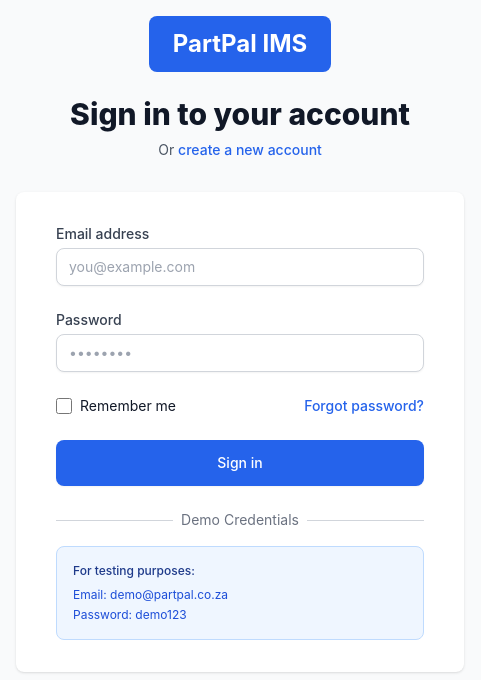
Test: Login Page › shows validation error for invalid email
This screenshot has width=481, height=680.
Type "invalid-email" into the field labelled "Email address" at (240, 267), box [56,248,424,286]
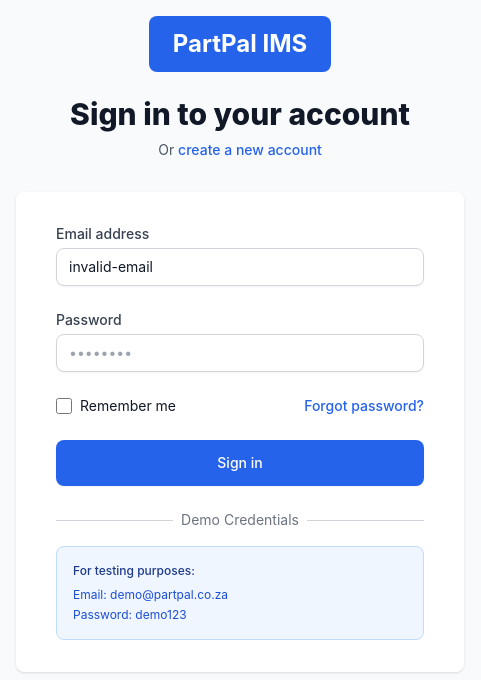
Type "password123" into the password field labelled "Password" at (240, 353), box [56,334,424,372]
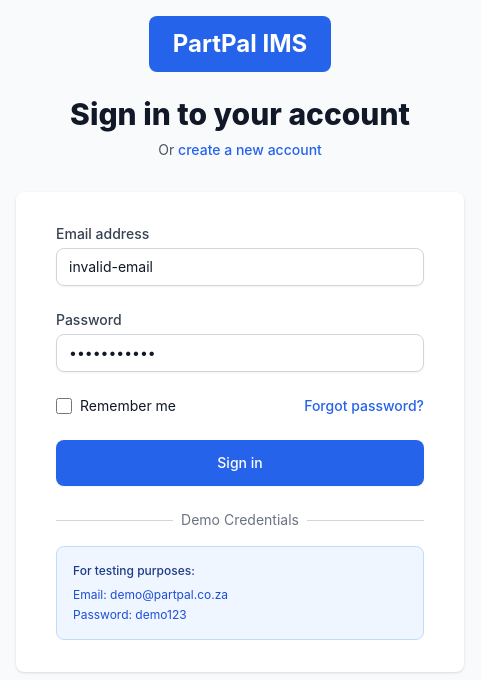
Submit the form "Email address Password Remember me Forgot password? Sign in", box [56,224,424,486]
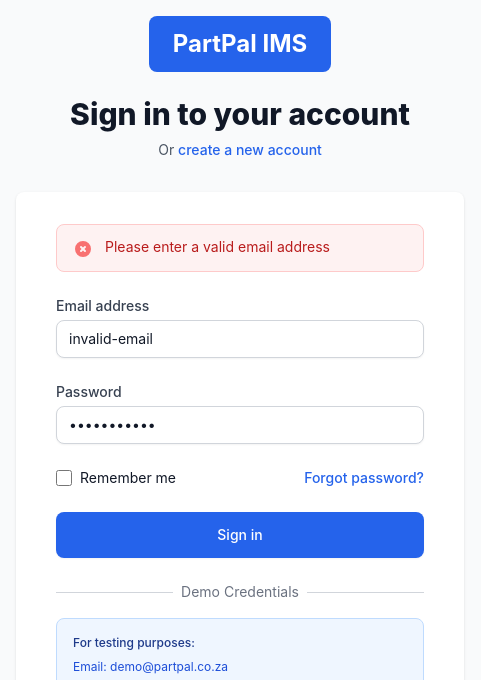
Result: the text "Please enter a valid email address" is shown at [105,237,330,257]
